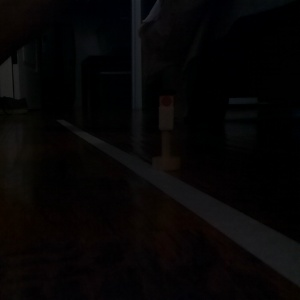traffic light red: (150, 88, 184, 175)
